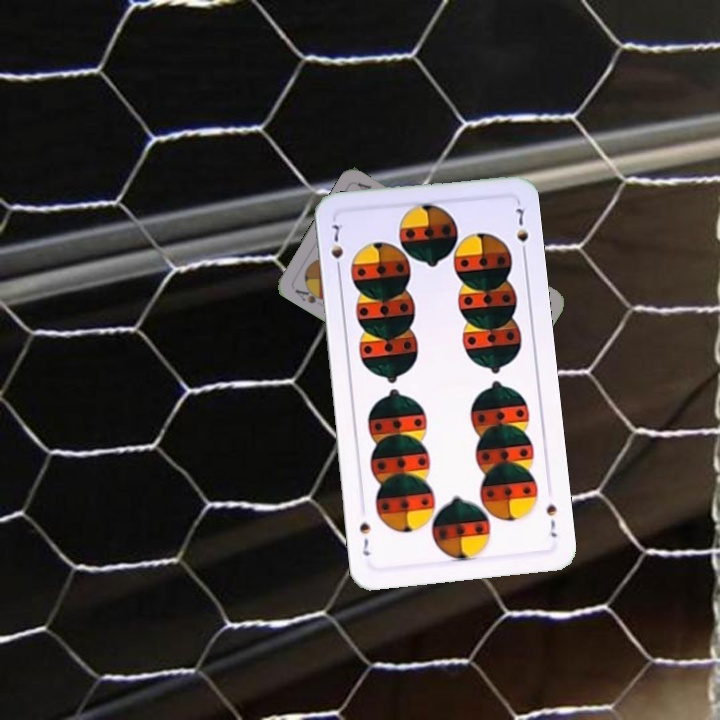S7: (327, 217, 346, 276), (542, 500, 560, 540)
SA: (291, 283, 329, 306)
